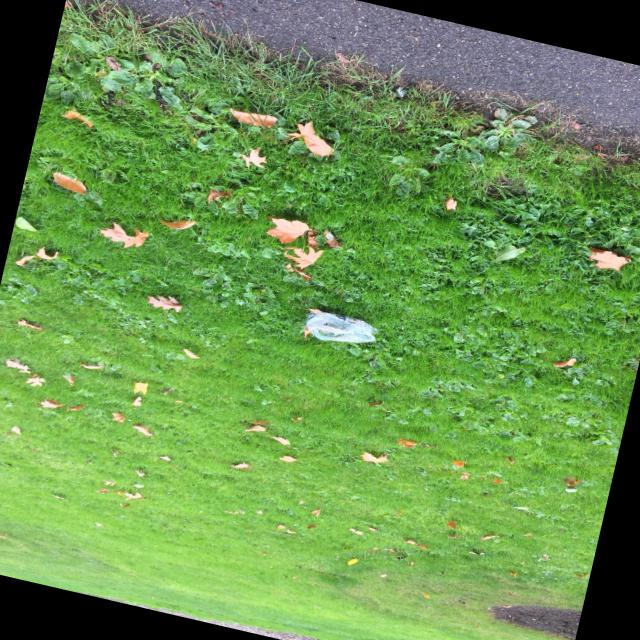less trash: (305, 311, 376, 343)
